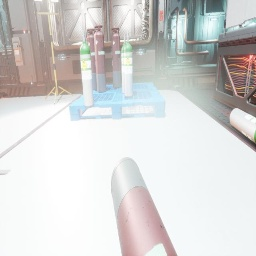0: (80, 28, 94, 106), (230, 108, 256, 144), (124, 30, 133, 97), (121, 33, 126, 94)
FireAlarm ,: (159, 10, 163, 21)
NitrogenTank ,: (111, 157, 178, 256), (94, 24, 106, 93), (87, 28, 97, 90), (111, 27, 121, 88), (94, 31, 97, 34)
SafetySwitchPanel ,: (11, 37, 25, 66)
